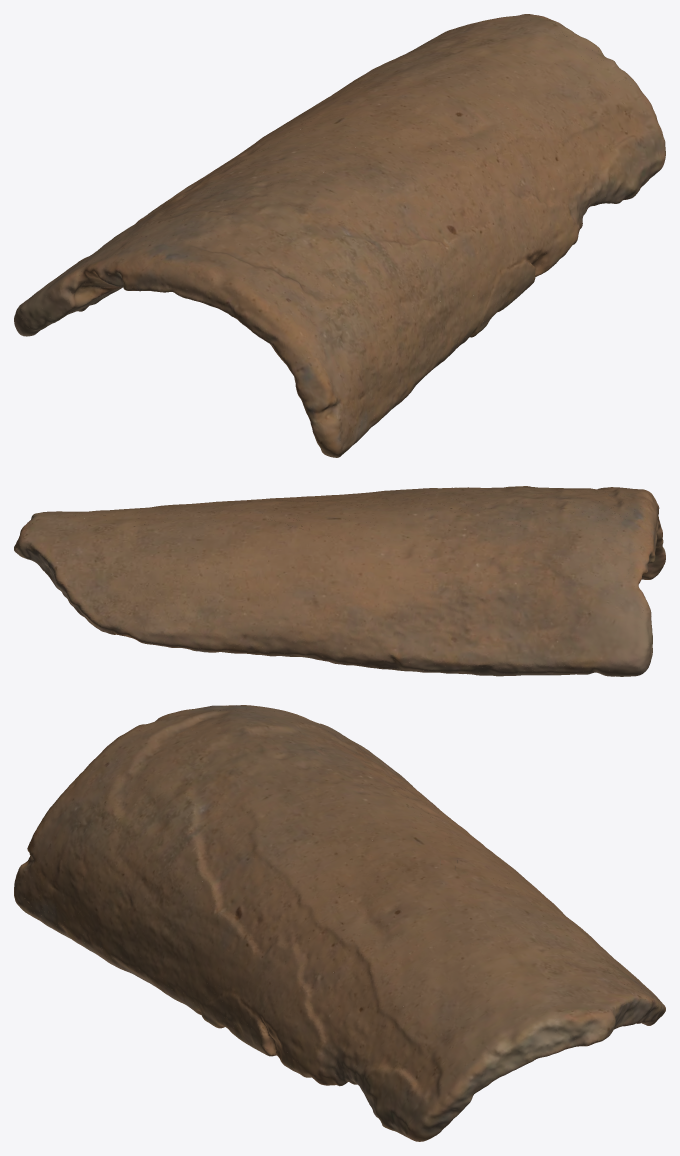
The model's file is crep-transformed.glb.
3 views of the same model, one above another, from view 1: azimuth 30°, elevation 25°; view 2: azimuth 150°, elevation 25°; view 3: azimuth 270°, elevation 25° (orthographic). The views are drawn at different scales.
Visible parts, largest first — view 1: Object_3, Object_2, Object_7, Object_6, Object_5; view 2: Object_2, Object_3, Object_5, Object_6, Object_7, Object_4; view 3: Object_3, Object_2, Object_7, Object_6, Object_5, Object_4.
Boxes of the visible parts, x1,y1,x2,y2 form: Object_3: (150,19,649,388); Object_2: (92,14,665,260); Object_7: (93,32,665,432); Object_6: (16,15,603,457); Object_5: (14,166,482,457); Object_2: (14,486,631,634); Object_3: (14,486,648,673); Object_5: (175,489,665,676); Object_6: (16,487,665,676); Object_7: (32,486,646,634); Object_4: (16,549,519,676); Object_3: (85,705,665,1093); Object_2: (188,708,661,1141); Object_7: (24,706,652,1139); Object_6: (14,705,665,1061); Object_5: (14,708,624,1084); Object_4: (152,828,661,1085).
Bounding box in the file's own units: 455 × 111 × 356.
1 material, 1 textured.
